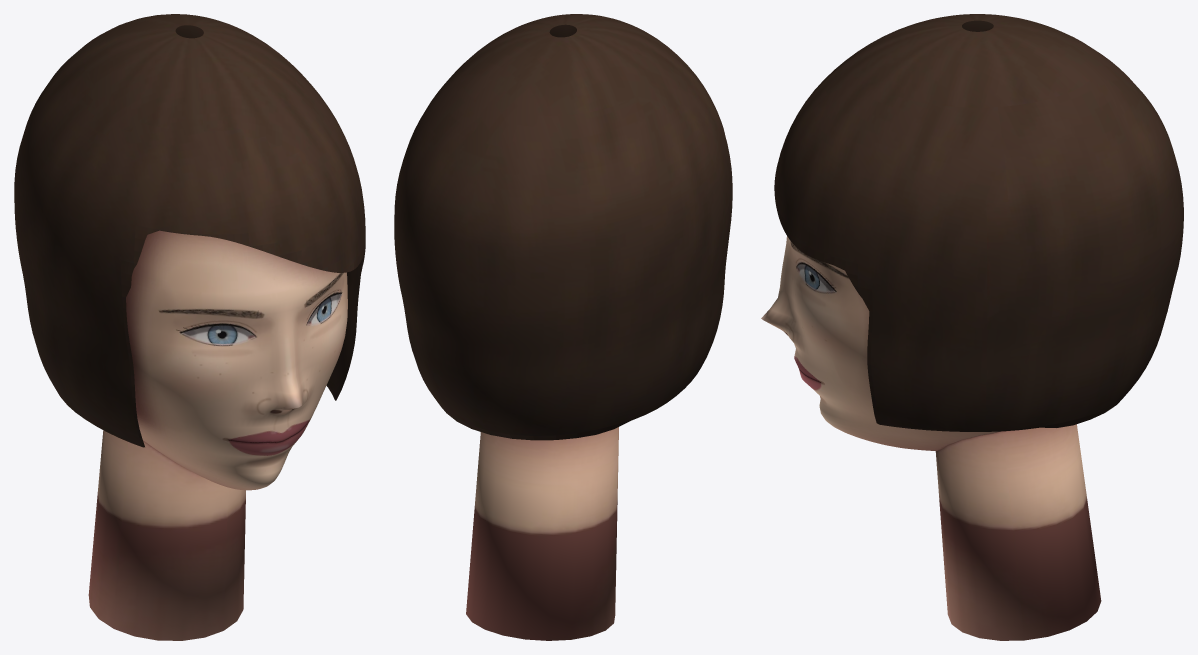
Rendered from cabeza-jill-f.glb.
3 renders of one model, left to right at view 1: azimuth 30°, elevation 25°; view 2: azimuth 150°, elevation 25°; view 3: azimuth 270°, elevation 25°, orthographic. The views are drawn at different scales.
Parts seen in each view (by area): view 1: h_Head; view 2: h_Head; view 3: h_Head.
Part boxes in pixels (box(x1,y1,x2,y2)): h_Head: box(14, 14, 365, 640); h_Head: box(394, 14, 732, 640); h_Head: box(761, 14, 1183, 640).
Size of the model in its own units: 0.1634 by 0.3286 by 0.214.
Materials: 1 (1 with a texture image).
